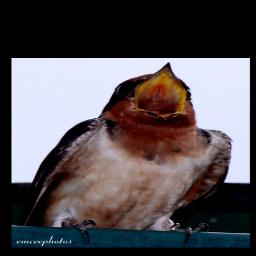Swallow: (20, 62, 233, 242)
